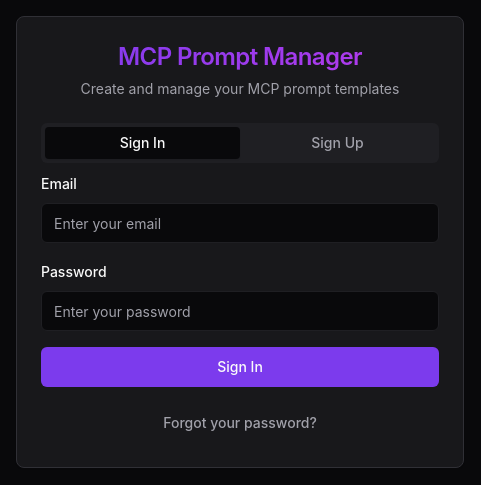
it: AuthForm › shows password reset form
Step 1. Click the button "Forgot your password?" → (240,423), box [147,403,333,443]
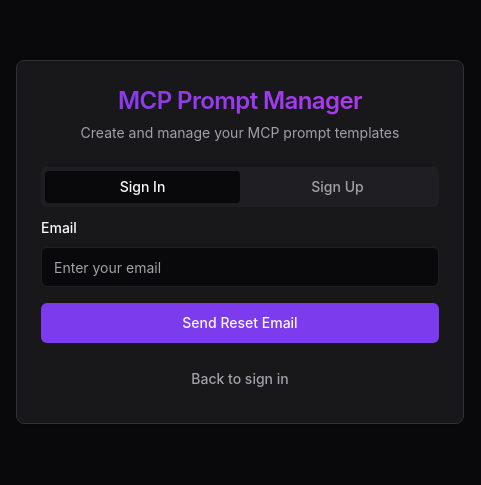
Expected: the button "Send Reset Email" is shown, [41,303,439,343]
Expected: the button "Back to sign in" is shown, [175,359,305,399]
